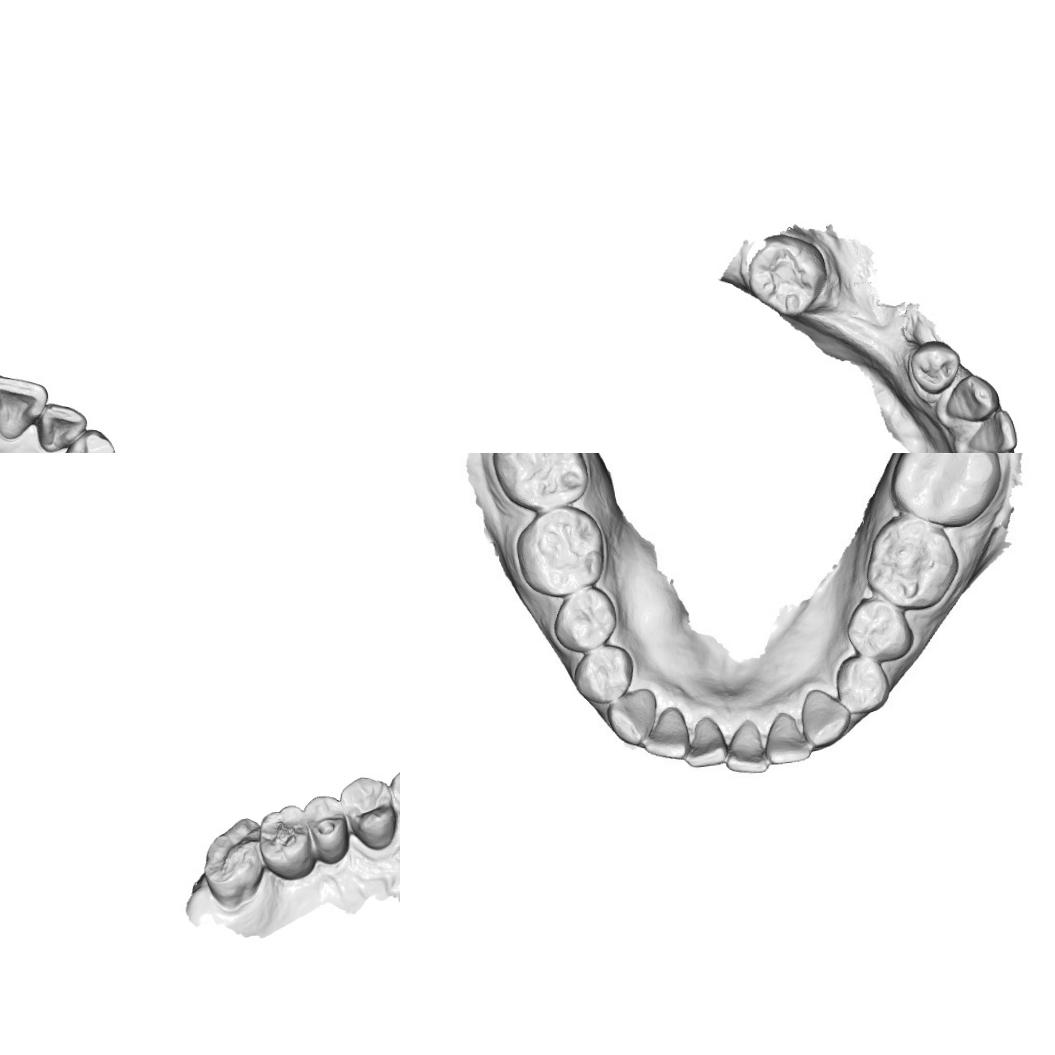canine: (942, 372, 1002, 424), (800, 687, 849, 745), (607, 687, 658, 742), (51, 426, 117, 453)
incisor: (0, 371, 50, 441), (34, 400, 88, 453), (720, 712, 764, 772), (646, 706, 692, 759), (963, 409, 1018, 453), (763, 709, 806, 762), (686, 712, 728, 766)
molar: (864, 512, 962, 611), (520, 496, 606, 596), (891, 453, 999, 527), (744, 233, 829, 319), (200, 816, 265, 910), (488, 453, 589, 511), (257, 803, 315, 883)
premolar: (845, 596, 913, 671), (338, 774, 398, 852), (552, 588, 618, 652), (572, 643, 638, 704), (302, 793, 352, 867), (836, 657, 893, 717), (907, 338, 962, 396)
